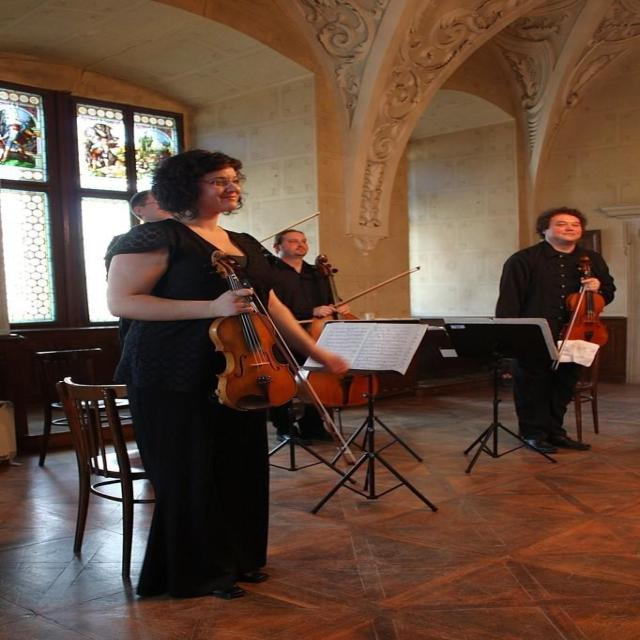cello: (291, 254, 382, 411)
violin: (208, 247, 308, 413), (562, 253, 615, 350)
